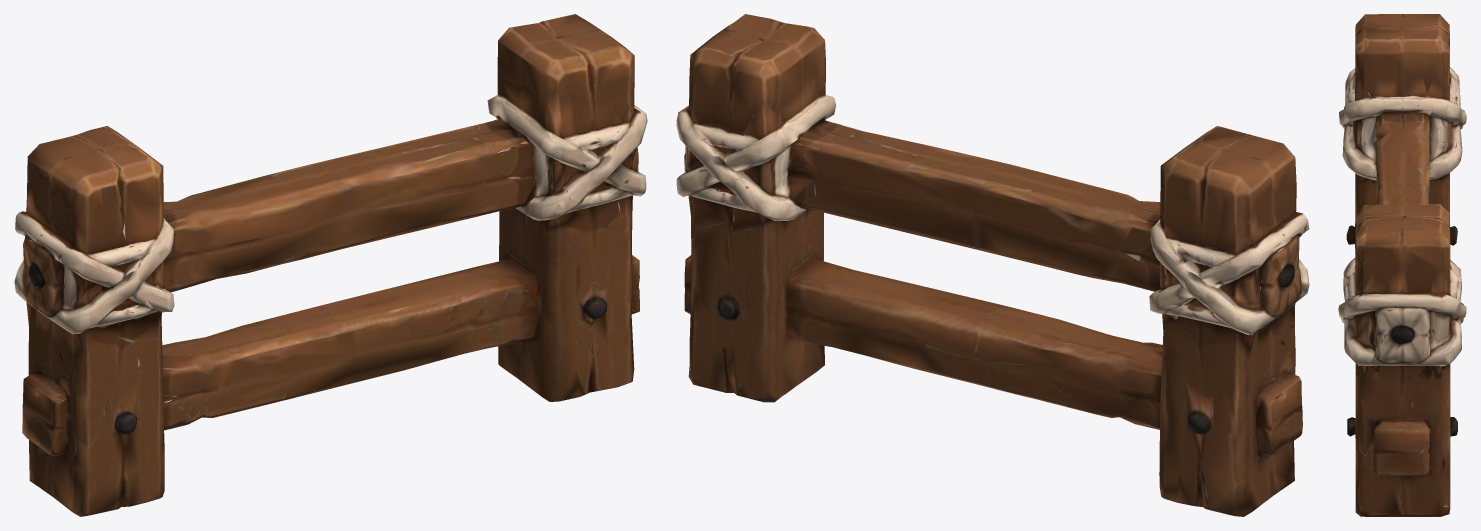
The model's file is fence.glb.
3 renders of one model, left to right at view 1: azimuth 30°, elevation 25°; view 2: azimuth 150°, elevation 25°; view 3: azimuth 270°, elevation 25°, orthographic. The views are drawn at different scales.
Size of the model in its own units: 1.9 by 1.04 by 0.4258.
1 material, 1 textured.
